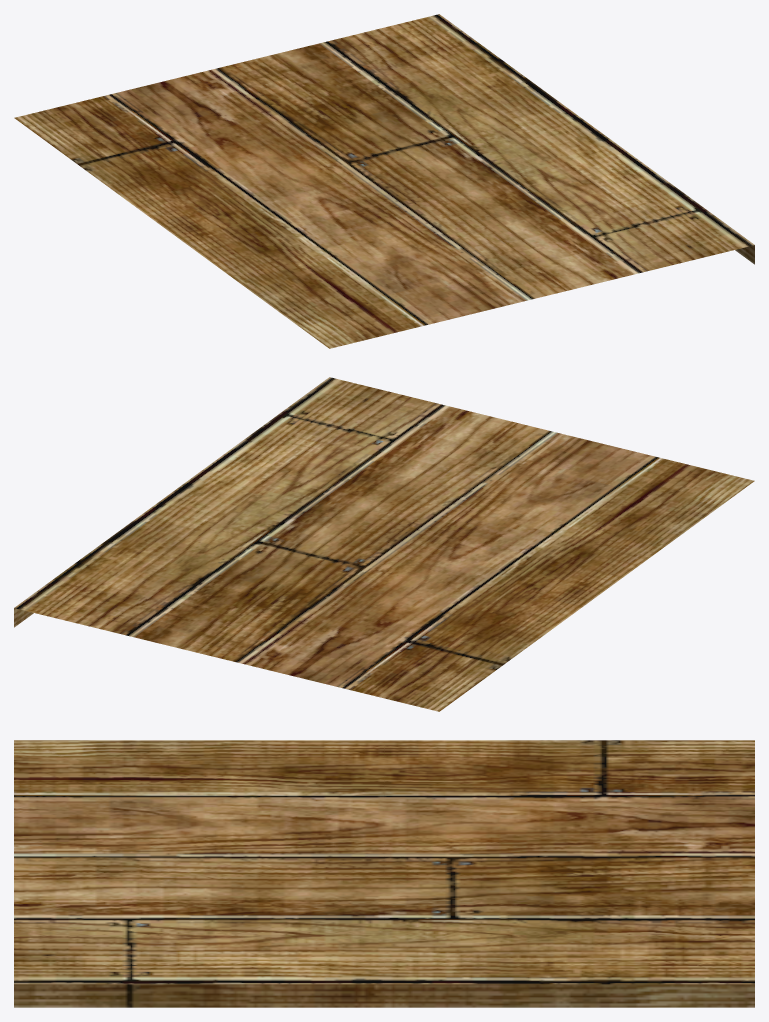
File: LAKETOWN_PUB_ANIM_PUB_TRAP_DOOR__AI.fbx
3 views of the same model, one above another, from view 1: azimuth 30°, elevation 25°; view 2: azimuth 150°, elevation 25°; view 3: azimuth 270°, elevation 25° (orthographic). The views are drawn at different scales.
Visible parts, largest first — view 1: LAKETOWN_PUB_ANIM_PUB_TRAP_DOOR__AI; view 2: LAKETOWN_PUB_ANIM_PUB_TRAP_DOOR__AI; view 3: LAKETOWN_PUB_ANIM_PUB_TRAP_DOOR__AI.
Boxes of the visible parts, left/top/right/bottom form: LAKETOWN_PUB_ANIM_PUB_TRAP_DOOR__AI: left=14, top=14, right=754, bottom=348; LAKETOWN_PUB_ANIM_PUB_TRAP_DOOR__AI: left=14, top=377, right=754, bottom=711; LAKETOWN_PUB_ANIM_PUB_TRAP_DOOR__AI: left=14, top=740, right=754, bottom=1007.
Bounding box in the file's own units: 14637 × 650 × 18802.
1 material, 1 textured.
